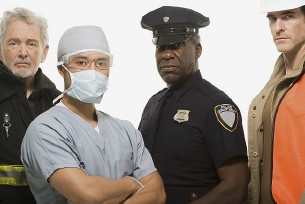Mask: (62, 53, 112, 102)
